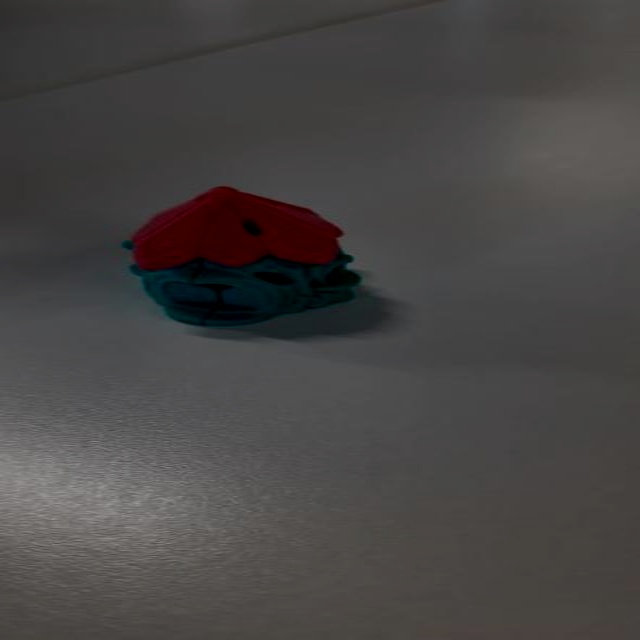House: (120, 177, 387, 328)
